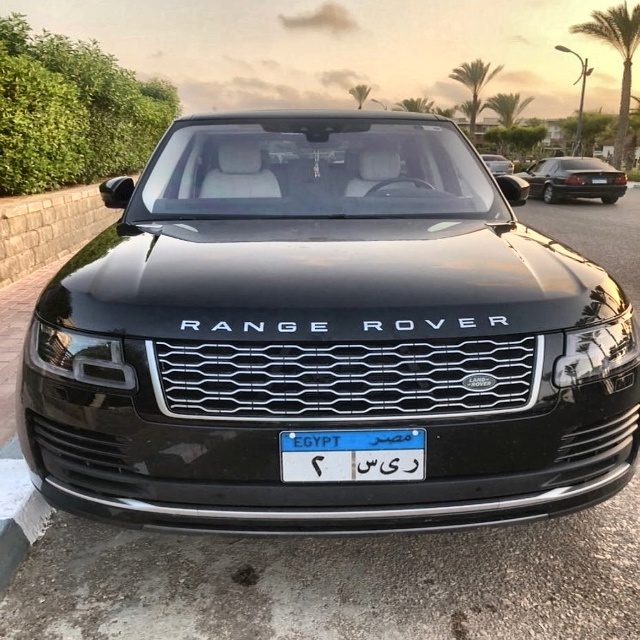License Plate: (276, 427, 429, 486)
